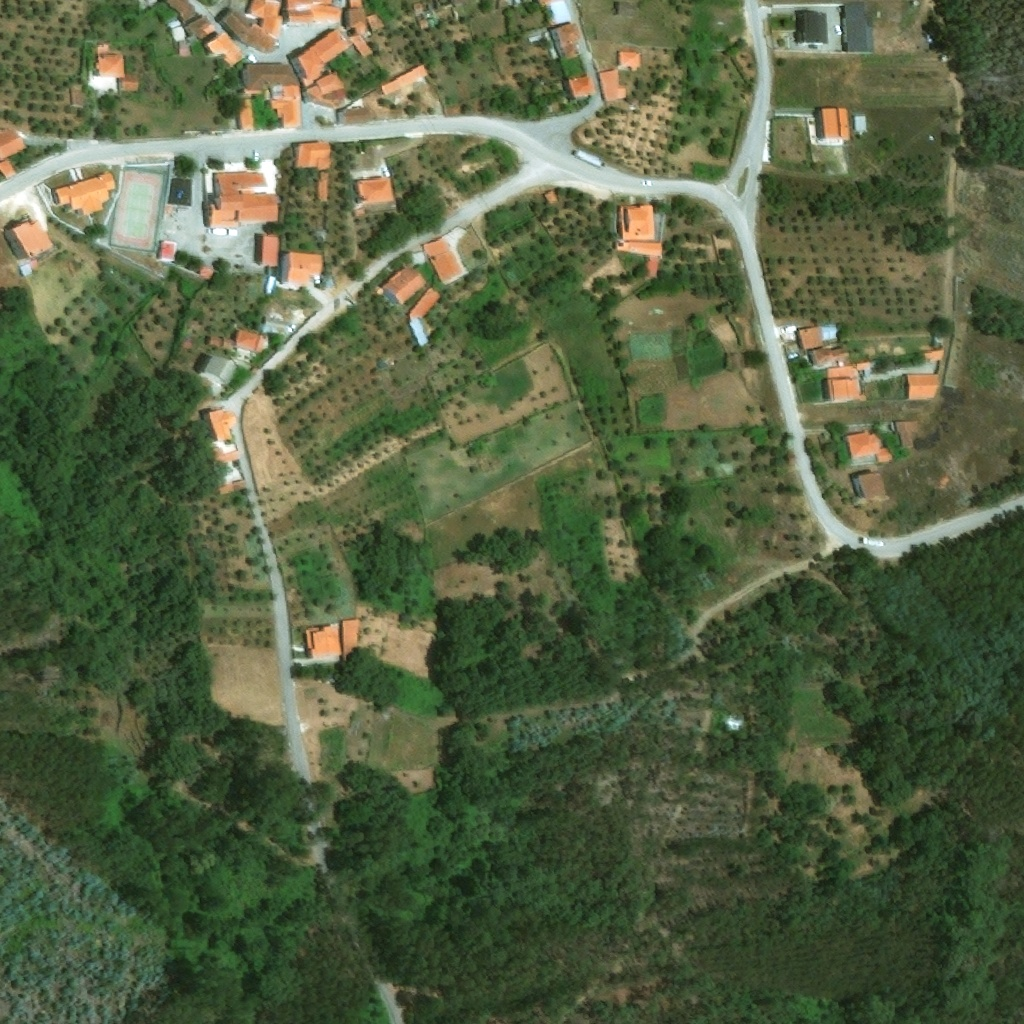0 no-damage: (825, 350, 945, 402), (292, 28, 350, 108), (206, 170, 281, 228), (245, 62, 302, 130), (306, 616, 360, 668), (421, 226, 468, 285), (54, 171, 116, 215), (223, 9, 279, 54), (165, 0, 216, 43), (382, 261, 428, 306), (378, 63, 432, 99), (11, 217, 56, 260), (844, 429, 895, 463), (200, 350, 243, 388), (844, 3, 876, 52), (206, 30, 246, 69), (346, 7, 387, 43), (797, 322, 840, 355), (286, 251, 328, 283), (288, 0, 343, 24), (620, 203, 656, 239), (356, 175, 396, 207), (552, 20, 583, 61), (818, 105, 850, 144), (249, 0, 284, 35), (597, 69, 629, 104), (294, 143, 331, 173), (206, 406, 238, 440), (797, 10, 827, 45), (94, 45, 127, 76), (856, 472, 891, 501), (0, 127, 29, 161), (905, 373, 941, 400), (235, 327, 268, 356), (810, 346, 852, 368), (205, 442, 243, 466), (409, 288, 437, 320), (567, 73, 597, 102), (615, 238, 662, 255), (259, 234, 281, 268), (347, 35, 374, 61), (335, 107, 374, 124), (896, 420, 919, 447), (409, 319, 430, 348), (236, 99, 254, 129), (208, 333, 236, 351), (218, 479, 249, 495), (618, 52, 643, 71), (117, 73, 140, 92), (316, 172, 329, 204), (0, 157, 18, 180), (646, 257, 662, 278), (159, 242, 177, 260), (724, 716, 742, 733), (544, 189, 560, 206), (199, 264, 215, 279), (853, 115, 867, 132), (412, 1, 429, 15), (17, 263, 32, 278), (218, 480, 243, 489), (418, 19, 430, 31), (348, 0, 363, 8), (649, 254, 662, 258)
4 un-classified: (451, 0, 477, 19), (617, 2, 638, 15), (541, 0, 570, 6), (497, 0, 516, 9), (515, 0, 522, 7)
